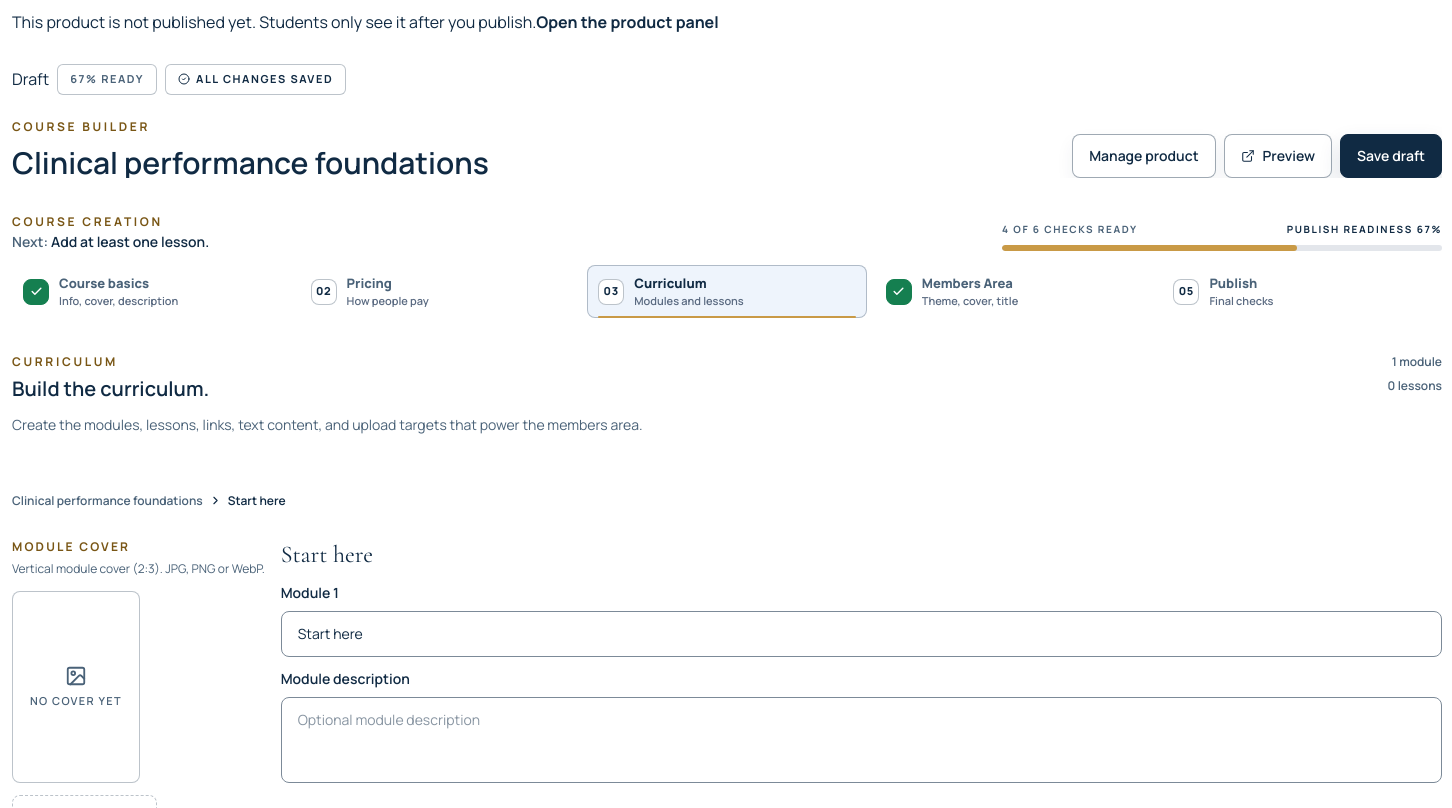
builder grava o rascunho pendente ao sair › pagehide e aba escondida gravam na hora, sem save repetido
This screenshot has width=1452, height=808.
Expected: the heading "Clinical performance foundations" is shown, [12,142,489,178]
Step 1. Replace the text in the field labelled "Module 1" with "Start here, renamed" → (861, 634), box [281,611,1442,657]
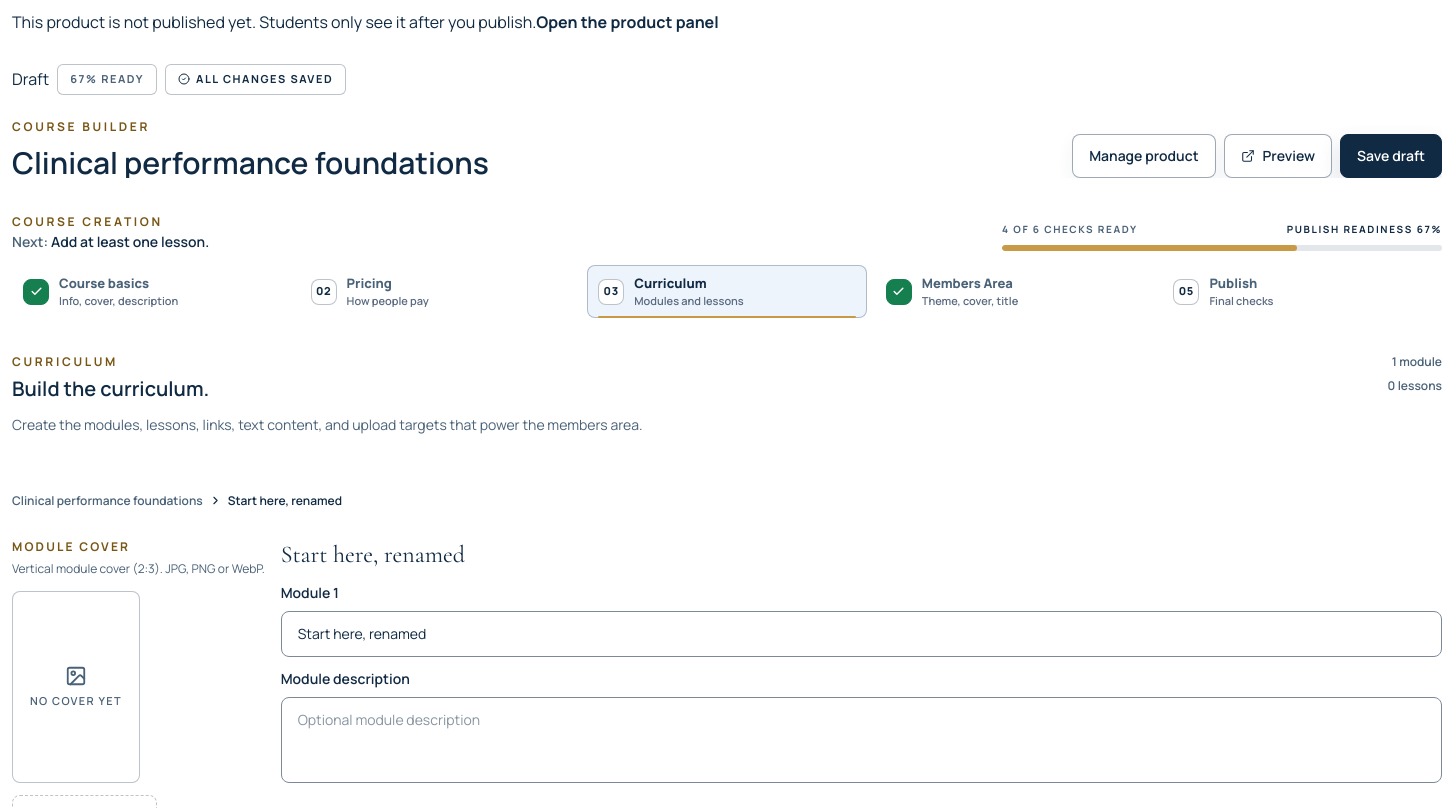
Now the text "Start here, renamed" is shown, box [228,493,342,509]
